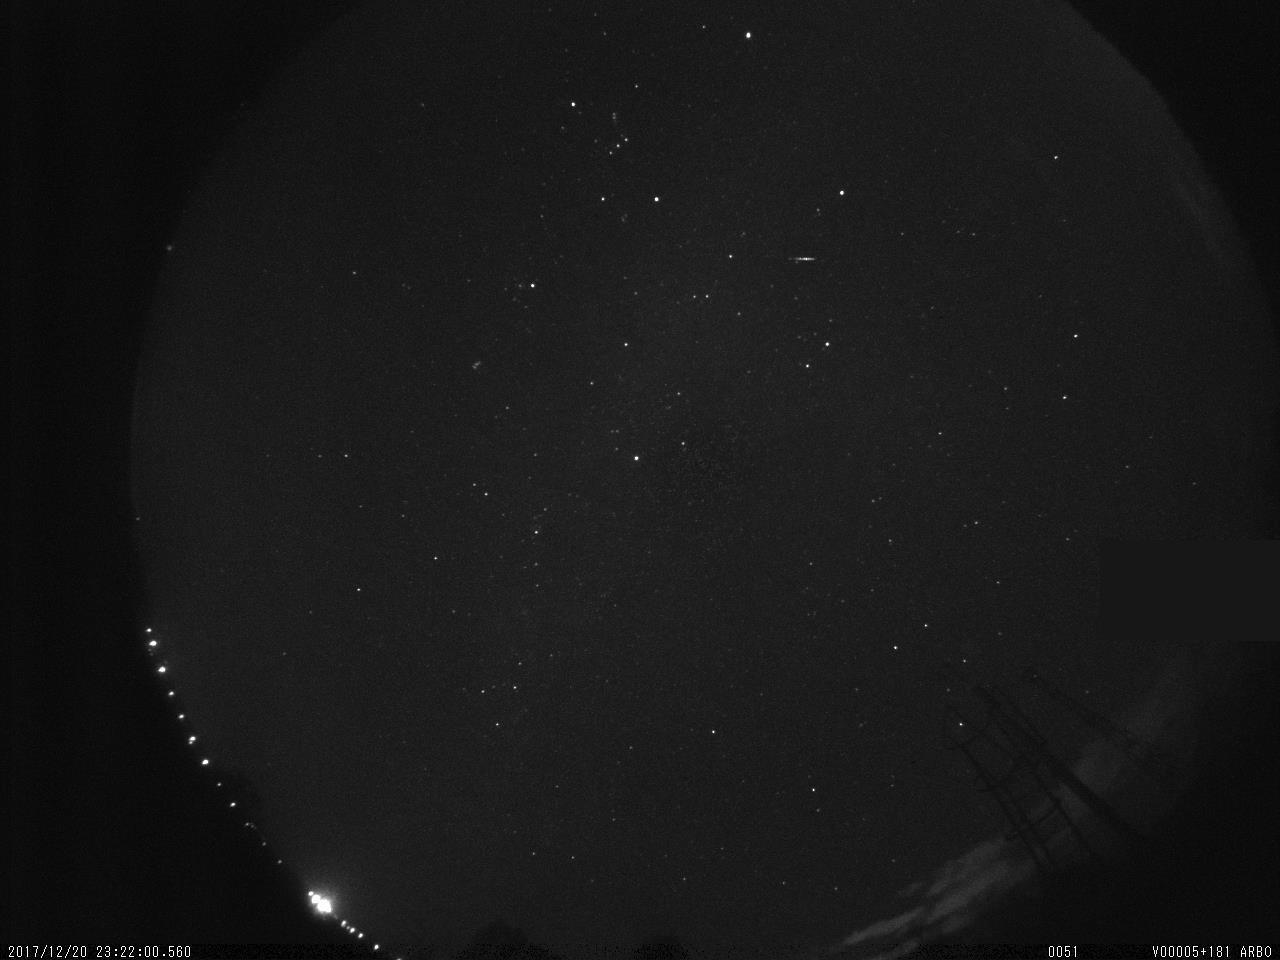meteor: (786, 246, 826, 268)
